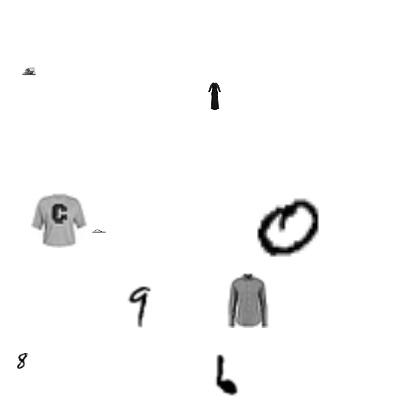0: (243, 184, 327, 268)
6: (195, 351, 251, 407)
8: (11, 349, 33, 371)
9: (112, 273, 168, 329)
Ankle_boot: (22, 64, 36, 78)
Dress: (201, 82, 229, 110)
Sandal: (92, 224, 106, 238)
Shirt: (220, 272, 276, 328)
T-shirt/top: (31, 192, 87, 248)
